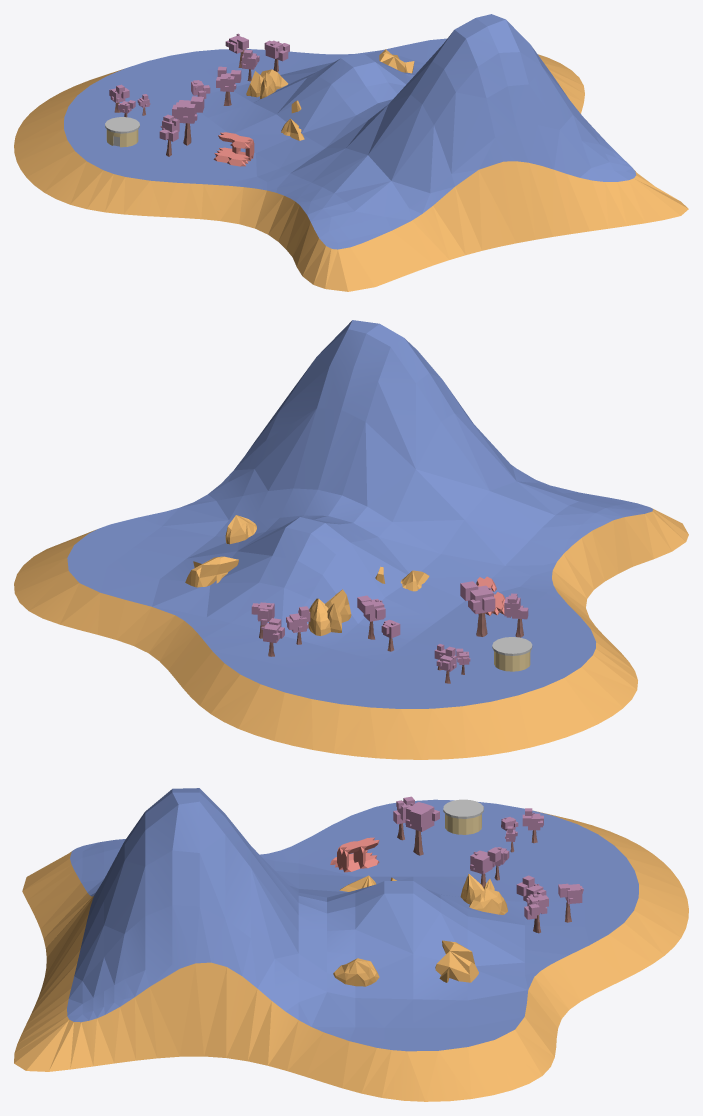
Rendered from paperPlane.glb.
3 views of the same model, one above another, from view 1: azimuth 30°, elevation 25°; view 2: azimuth 150°, elevation 25°; view 3: azimuth 270°, elevation 25° (orthographic). The views are drawn at different scales.
Visible parts, largest first — view 1: Grass, Rocks, Leafs, P1_Blocks, Trunks, P0_Roof; view 2: Grass, Rocks, Leafs, Trunks; view 3: Grass, Rocks, Leafs, P1_Blocks, Trunks, P0_Roof, P0_Walls.
Boxes of the visible parts, x1,y1,x2,y2 form: Grass: (64, 14, 636, 249); Rocks: (14, 49, 688, 291); Leafs: (109, 33, 289, 141); P1_Blocks: (213, 132, 254, 166); Trunks: (114, 49, 278, 156); P0_Roof: (105, 117, 139, 146); Grass: (67, 320, 652, 708); Rocks: (14, 508, 688, 759); Leafs: (251, 581, 528, 671); Trunks: (259, 612, 523, 683); Grass: (67, 788, 638, 1051); Rocks: (14, 811, 688, 1101); Leafs: (393, 796, 583, 919); P1_Blocks: (330, 837, 379, 872); Trunks: (397, 823, 571, 933); P0_Roof: (443, 799, 483, 818); P0_Walls: (445, 814, 481, 834).
Size of the model in its own units: 114 by 35.77 by 110.
